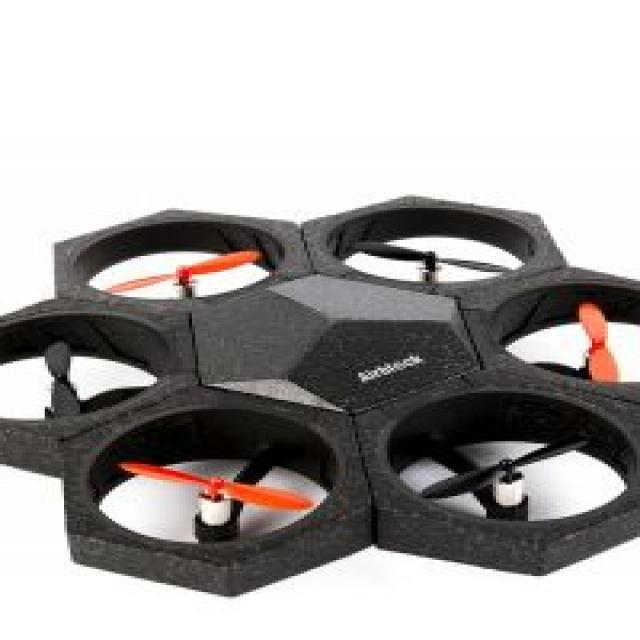drone: (0, 208, 640, 578)
